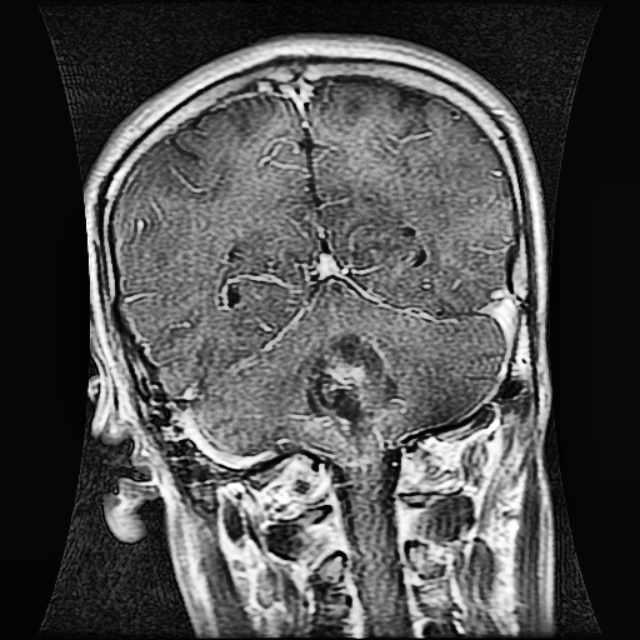Meningioma: (303, 329, 405, 445)
